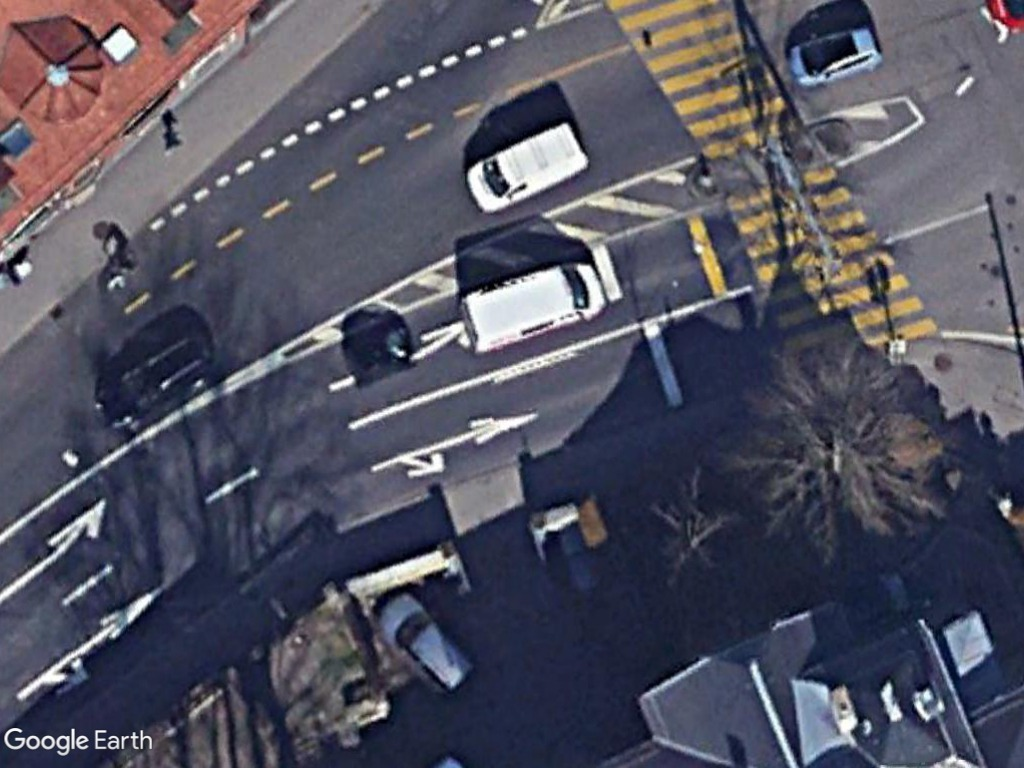car: (376, 594, 480, 701), (782, 26, 884, 90)
van: (454, 260, 607, 355), (461, 120, 598, 220)
